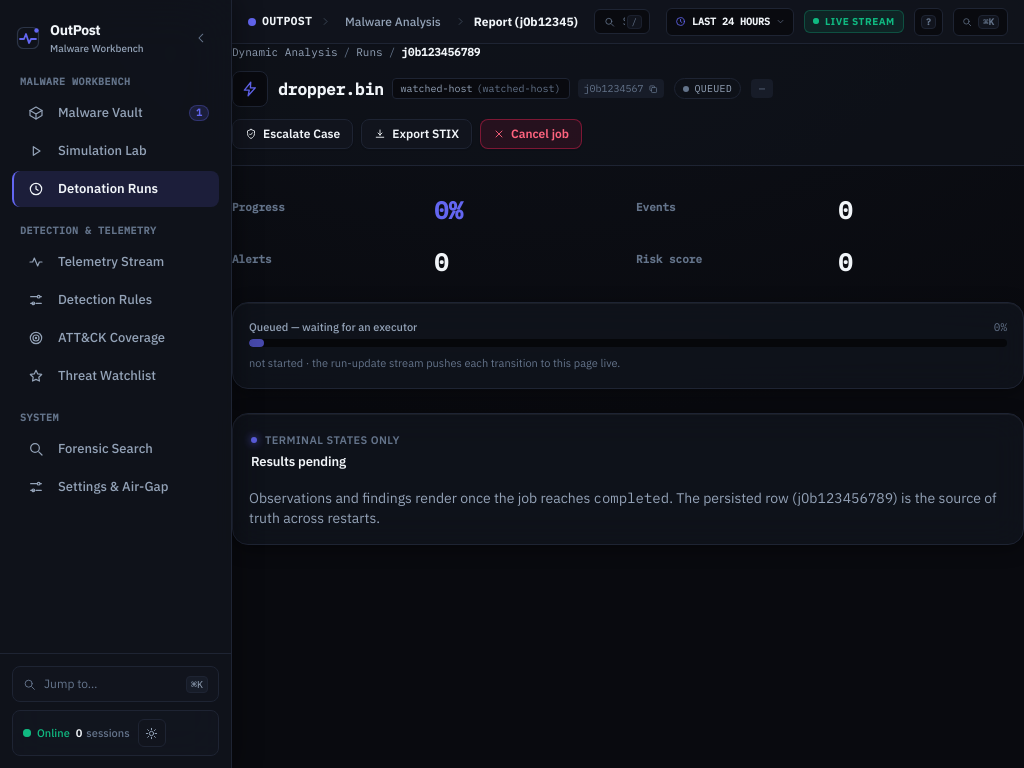
Test case: P1.2 analysis workspace (routed) › cancel flips a queued job to its terminal state
Check: the text "Cancel job" is shown, box left=511, top=126, right=569, bottom=142
Click the button "Cancel job". click: {"x": 531, "y": 134}
box: left=480, top=118, right=582, bottom=148
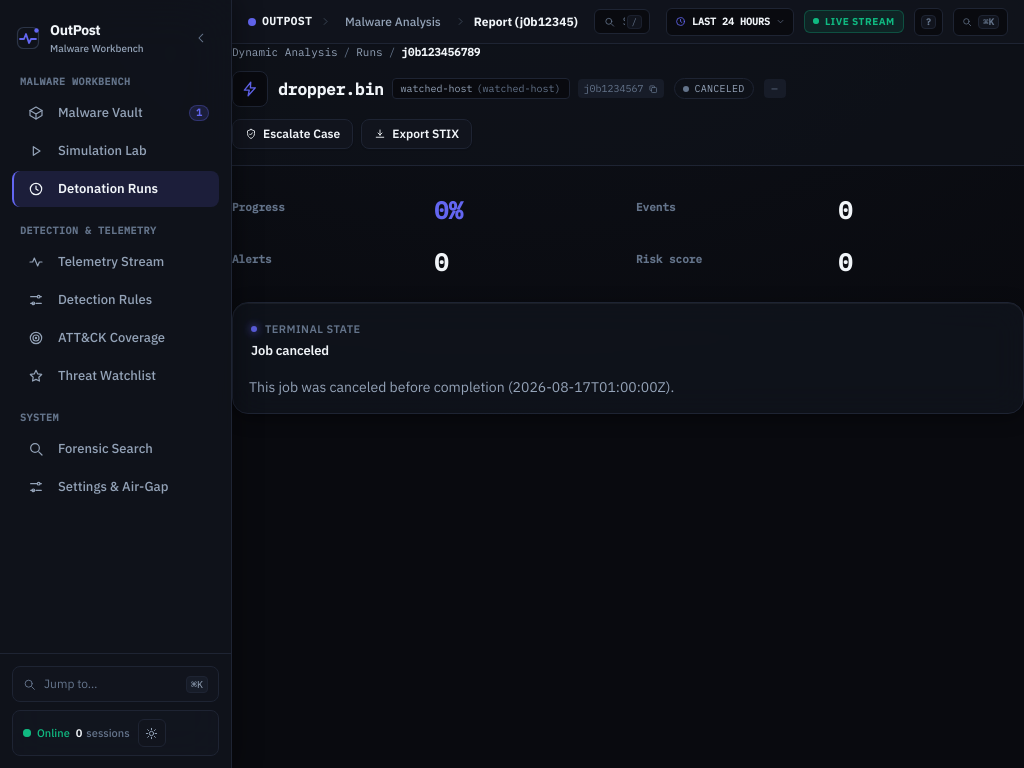
Check: the heading "Job canceled" is shown, box left=251, top=342, right=329, bottom=359
Check: the button "Cancel job" is gone
